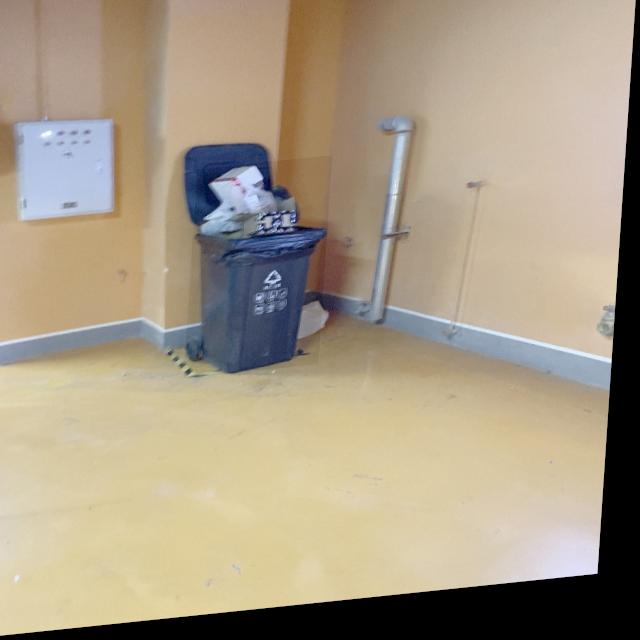overflow: (189, 163, 335, 383)
